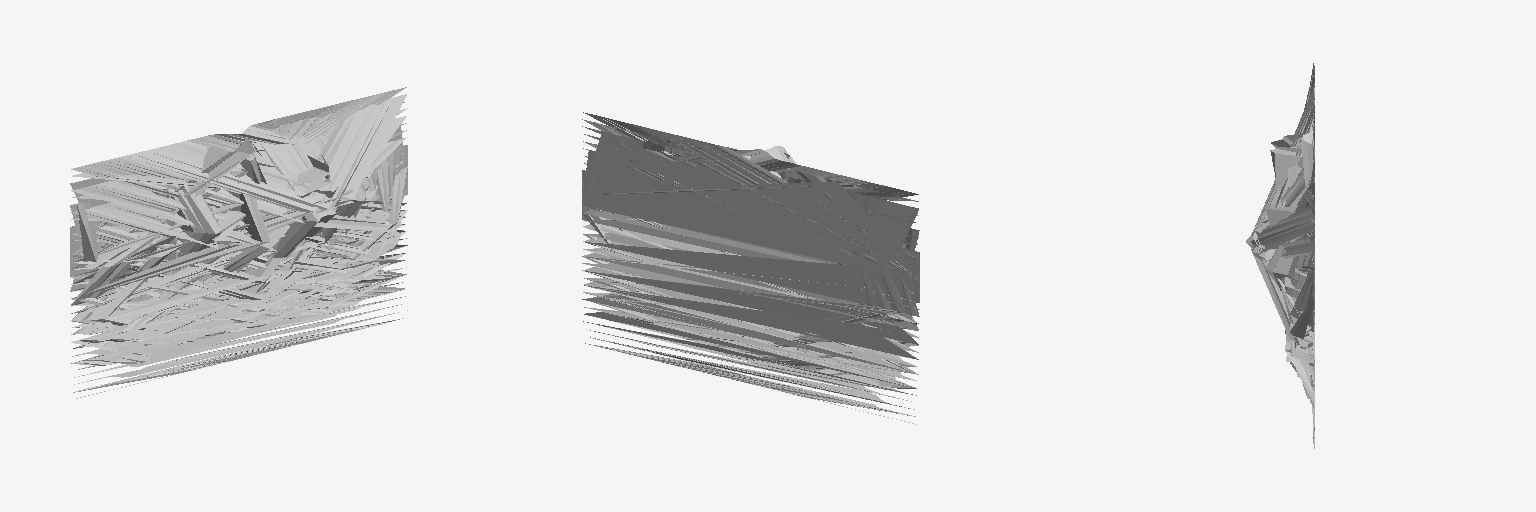
Rendered from terrainMesh.obj.
3 views of the same model, side by side, from view 1: azimuth 30°, elevation 25°; view 2: azimuth 150°, elevation 25°; view 3: azimuth 270°, elevation 25° (orthographic).
Bounding box in the file's own units: 49 × 32 × 8.71.